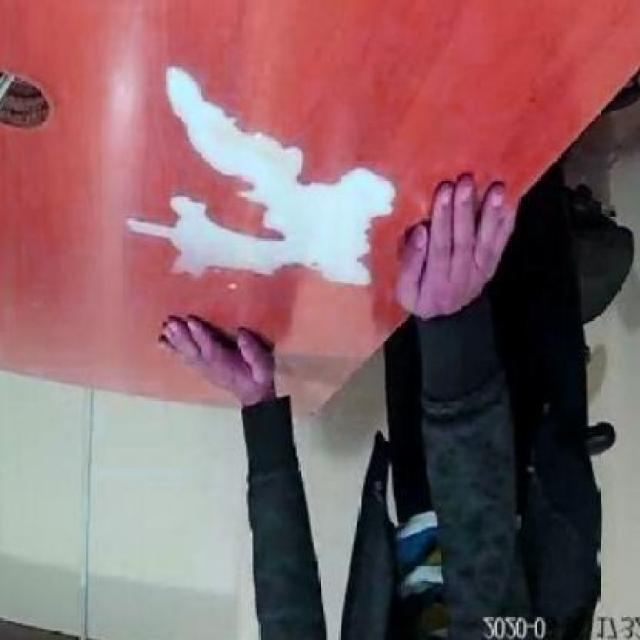spillage: (127, 66, 397, 285)
